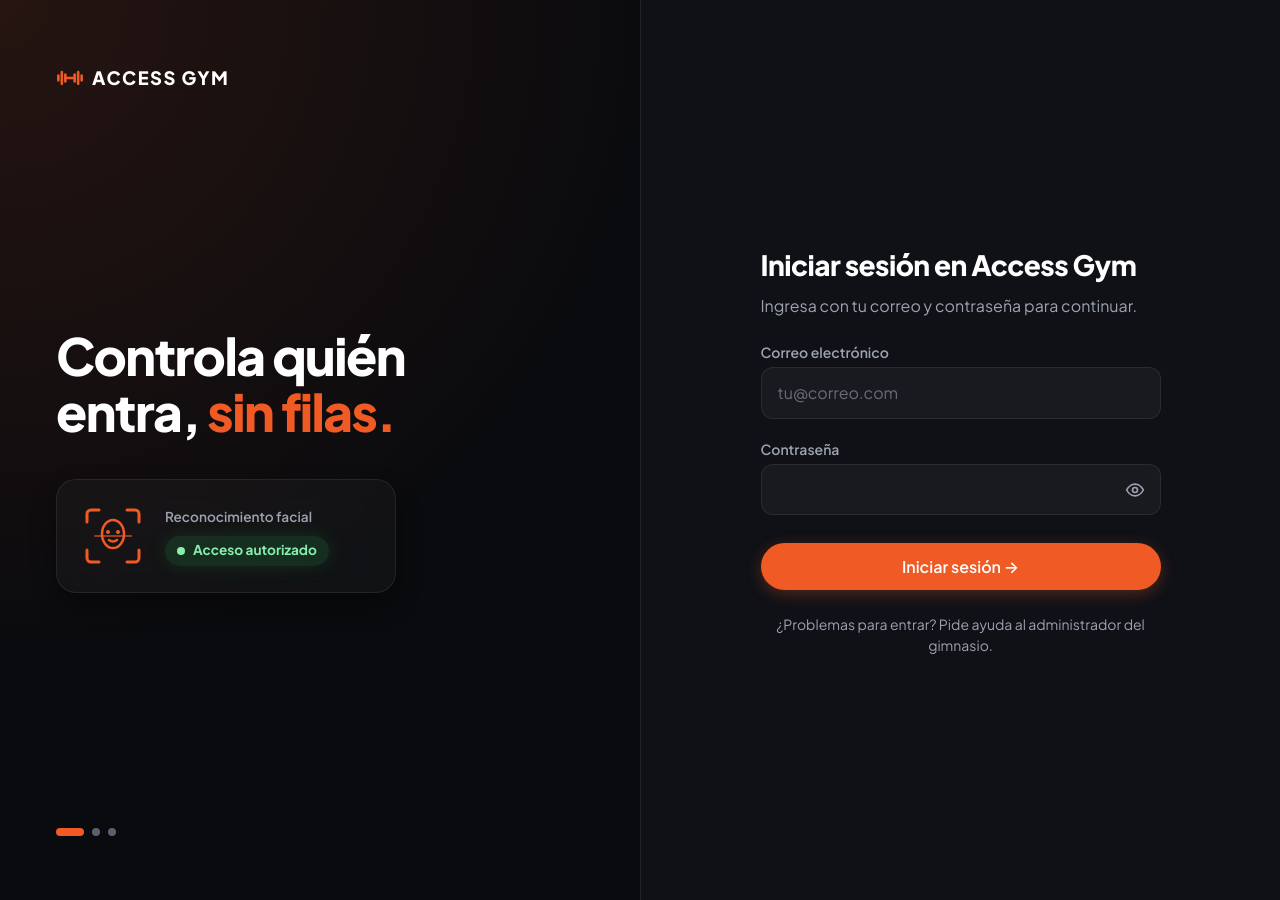
Test: pantalla de inicio de sesión › muestra_el_mensaje_del_servidor_ante_credenciales_invalidas
In the field labelled "Correo electrónico": (960,393) 760,367 -> 1160,419, type "a@b.com"
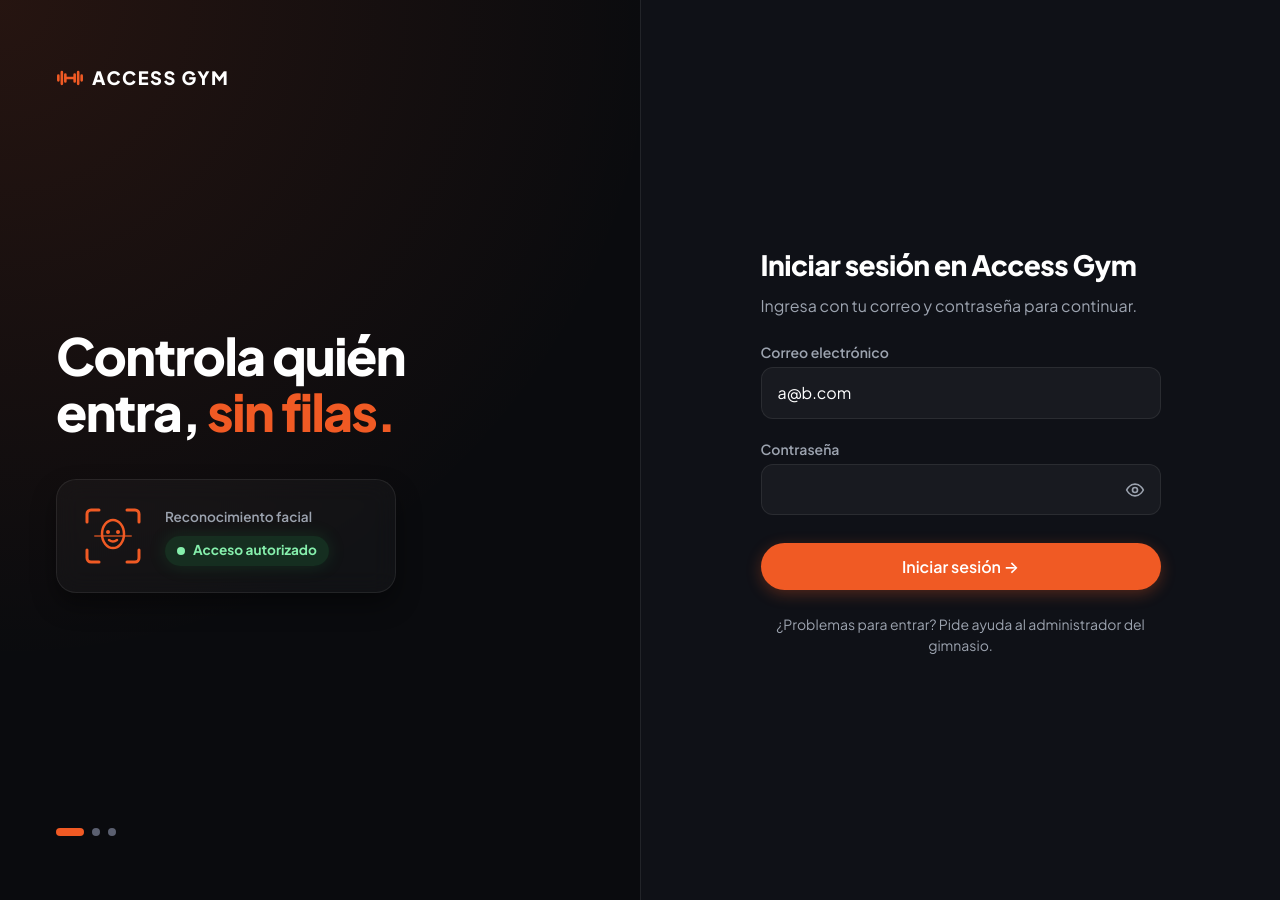
In the password field labelled "Contraseña": (960,490) 760,464 -> 1160,515, type "Mala1234"
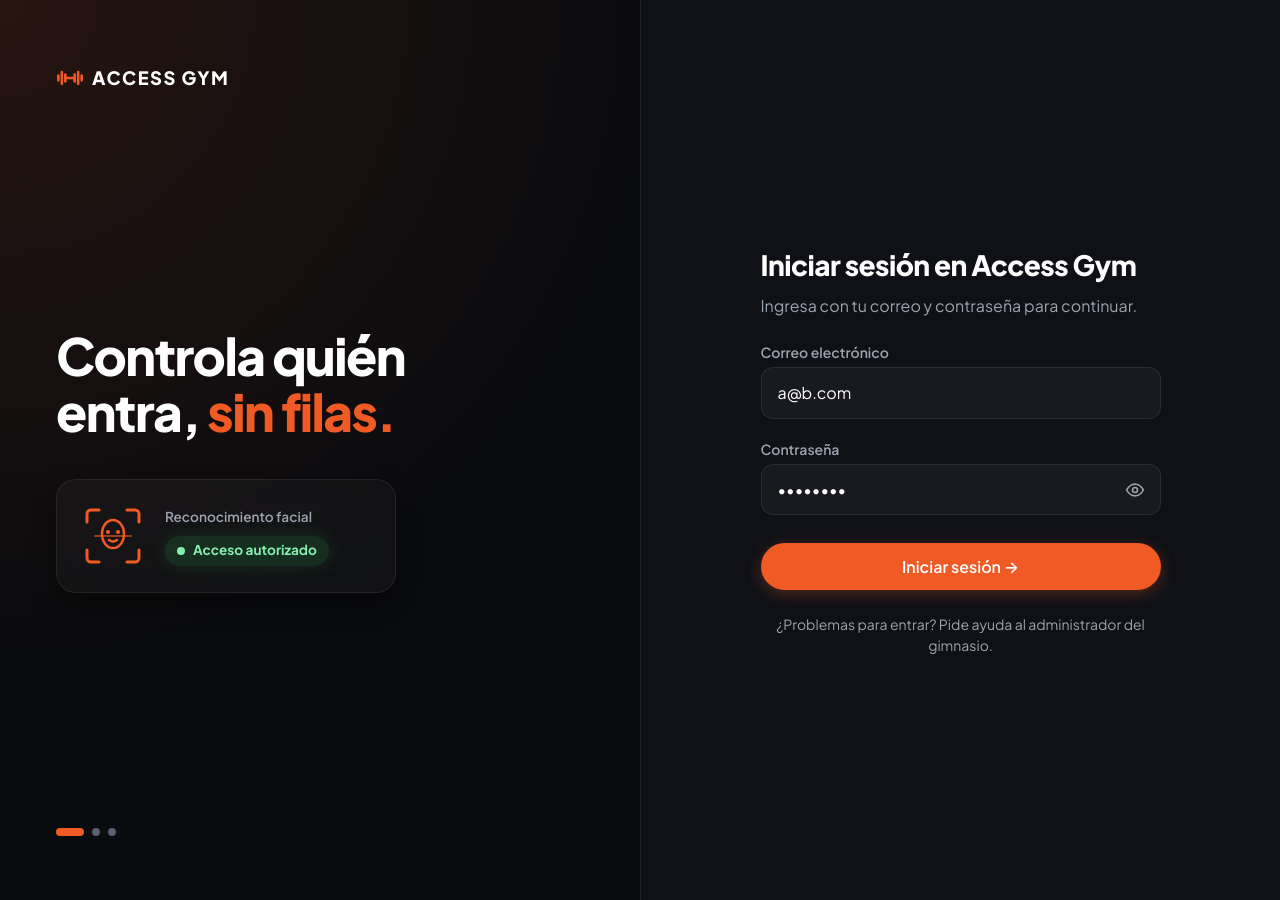
Click the button "Iniciar sesión →": (960,567) 760,543 -> 1160,590
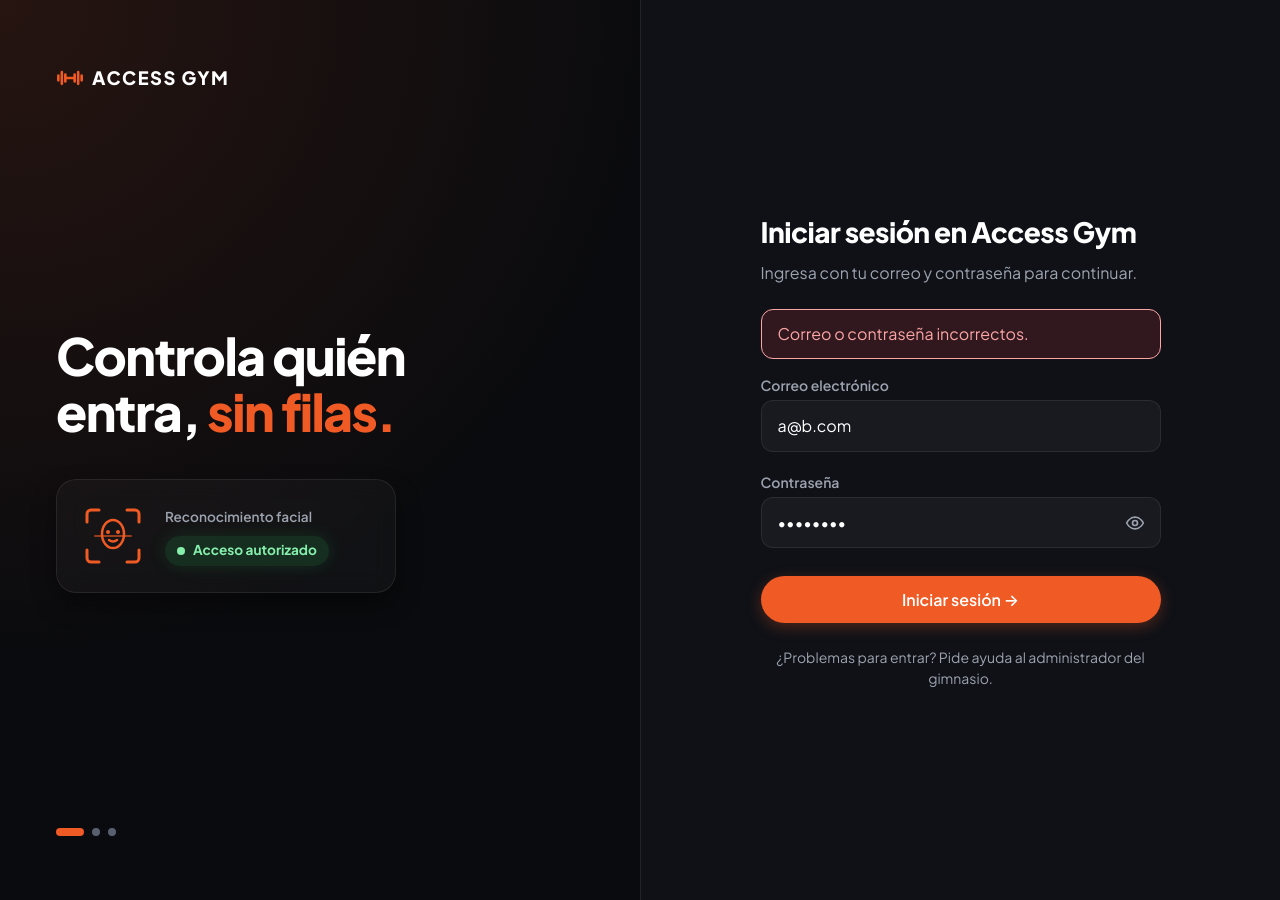
Check: the message reads "Correo o contraseña incorrectos.", box 778,323 -> 1029,344
